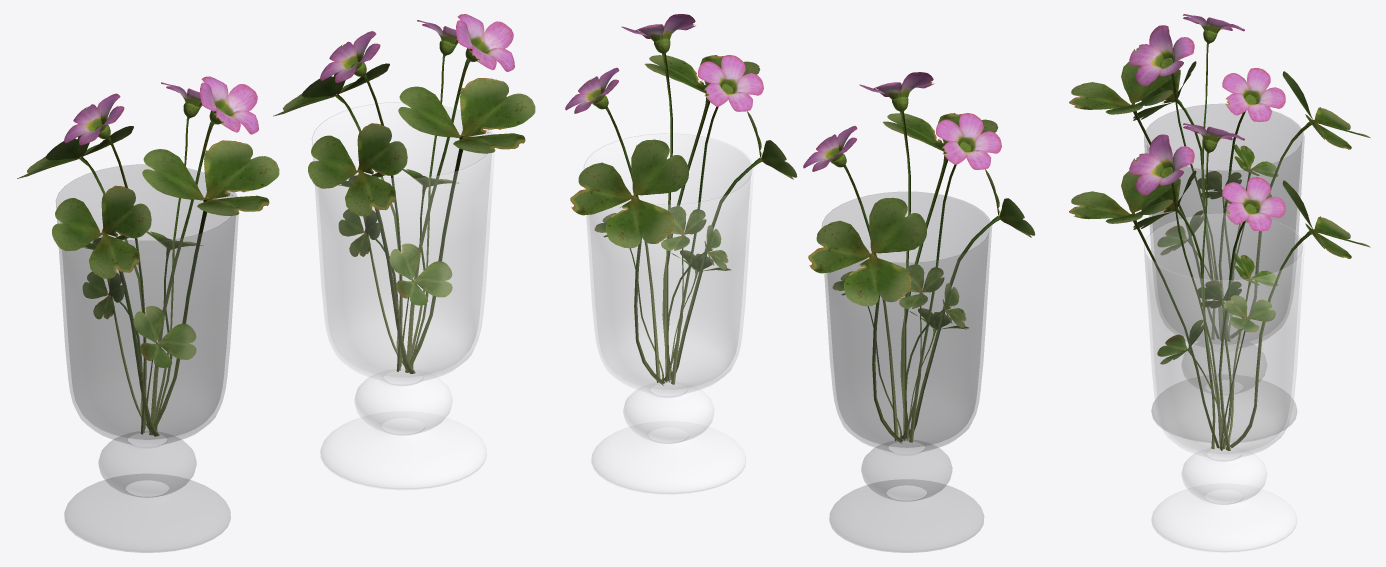
Rendered from flowers.glb.
The picture shows the model from 3 angles, left to right: view 1: azimuth 30°, elevation 25°; view 2: azimuth 150°, elevation 25°; view 3: azimuth 270°, elevation 25°; orthographic projection. The views are drawn at different scales.
Visible parts, largest first — view 1: GlassAlpha, GlassTransmission, Flowers2, Flowers1; view 2: GlassAlpha, GlassTransmission, Flowers2, Flowers1; view 3: GlassTransmission, GlassAlpha, Flowers2, Flowers1.
Part boxes in pixels (x1,y1,x2,y2): GlassAlpha: (56,164,238,552); GlassTransmission: (312,102,494,490); Flowers2: (273,14,535,373); Flowers1: (17,76,279,436); GlassAlpha: (822,192,991,552); GlassTransmission: (584,133,753,494); Flowers2: (565,14,797,385); Flowers1: (803,72,1035,443); GlassTransmission: (1144,213,1304,552); GlassAlpha: (1144,104,1304,442); Flowers2: (1069,123,1370,450); Flowers1: (1069,14,1370,341).
Bounding box in the file's own units: 0.2173 × 0.2032 × 0.1425.
Materials: 3 (1 with a texture image).
